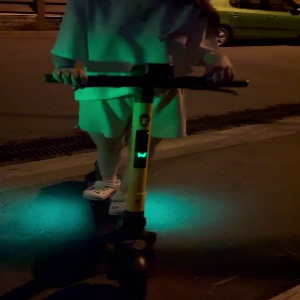human on a scooter: (41, 1, 253, 300)
